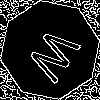W: (25, 25, 89, 90)
